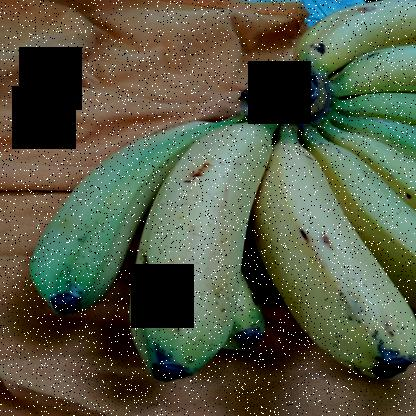freshripe: (21, 111, 189, 316)
ripe: (112, 126, 270, 386), (249, 155, 415, 385)
